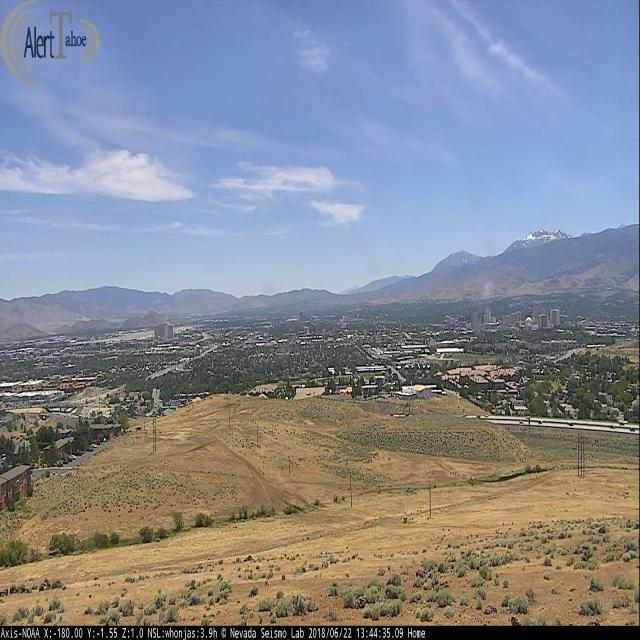smoke: (482, 278, 495, 303)
